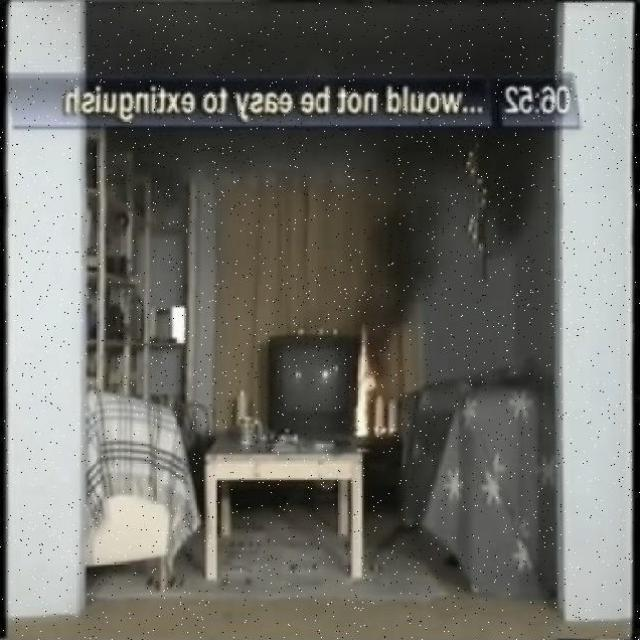fire: (356, 129, 449, 330)
smoke: (353, 328, 381, 437)
